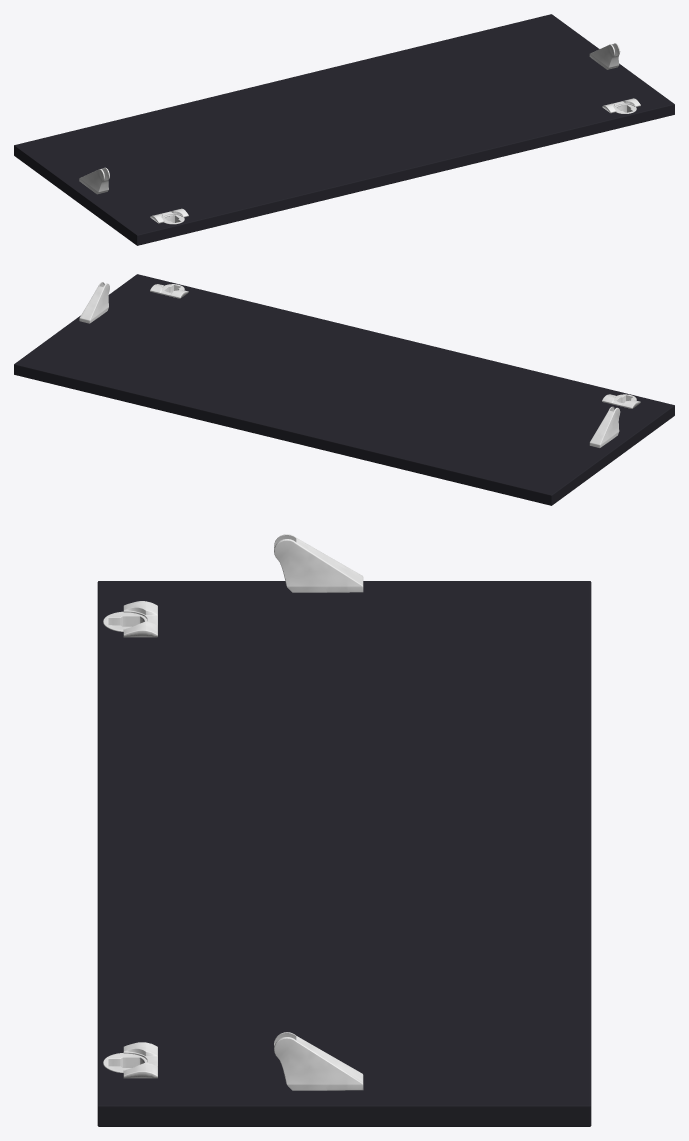
Rendered from SM_Kitchen_04_Door_02.obj.
3 renders of one model, top to bottom at view 1: azimuth 30°, elevation 25°; view 2: azimuth 150°, elevation 25°; view 3: azimuth 270°, elevation 25°, orthographic. The views are drawn at different scales.
Visible parts, largest first — view 1: SM_Kitchen_04_Door_02; view 2: SM_Kitchen_04_Door_02; view 3: SM_Kitchen_04_Door_02.
Boxes of the visible parts, x1,y1,x2,y2 form: SM_Kitchen_04_Door_02: [14, 14, 674, 245]; SM_Kitchen_04_Door_02: [14, 274, 674, 505]; SM_Kitchen_04_Door_02: [97, 534, 591, 1126].
Bounding box in the file's own units: 0.9969 × 0.0697 × 0.396.
